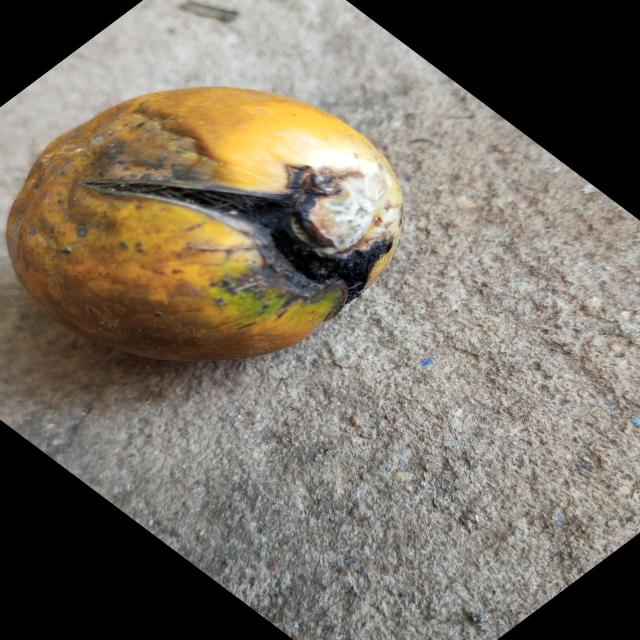damaged: (7, 87, 403, 360)
